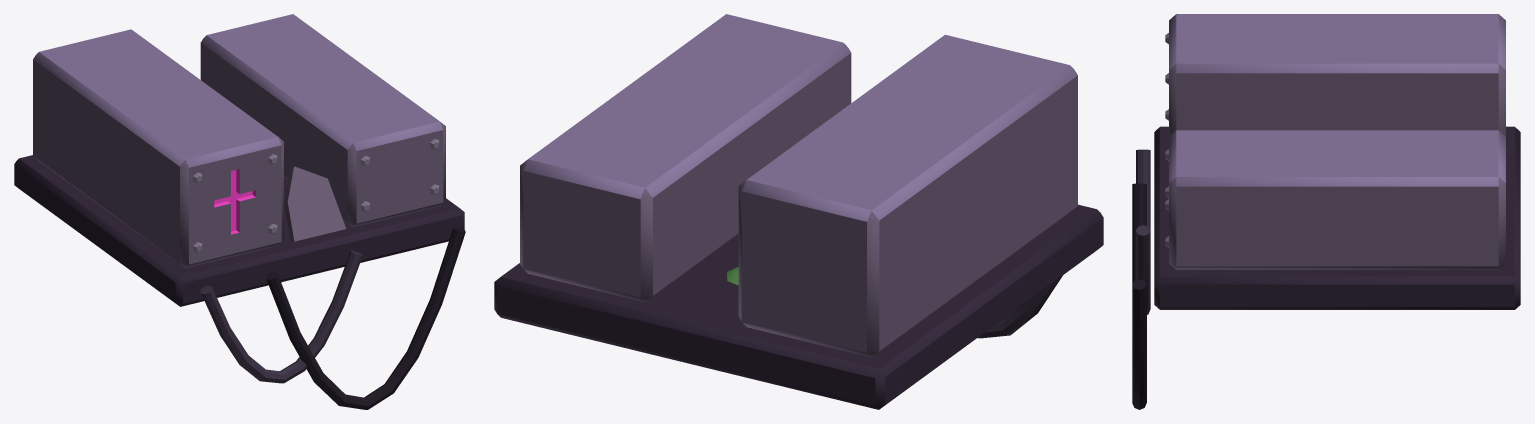
Rendered from wall_top_a__lower.glb.
3 views of the same model, side by side, from view 1: azimuth 30°, elevation 25°; view 2: azimuth 150°, elevation 25°; view 3: azimuth 270°, elevation 25° (orthographic). The views are drawn at different scales.
Visible parts, largest first — view 1: wall_top_a; view 2: wall_top_a; view 3: wall_top_a.
Boxes of the visible parts, x1,y1,x2,y2 form: wall_top_a: (14, 14, 465, 409); wall_top_a: (494, 14, 1103, 409); wall_top_a: (1132, 14, 1520, 409).
Bounding box in the file's own units: 1 × 0.92 × 1.06.
